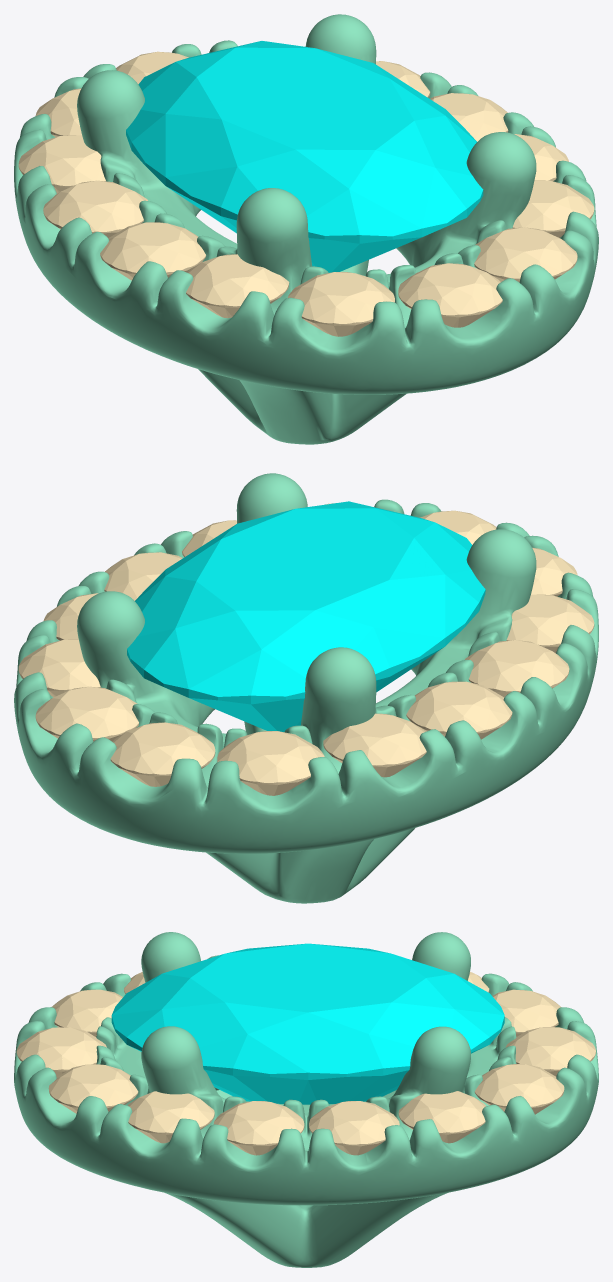
The picture shows the model from 3 angles, top to bottom: view 1: azimuth 30°, elevation 25°; view 2: azimuth 150°, elevation 25°; view 3: azimuth 270°, elevation 25°; orthographic projection. The views are drawn at different scales.
Parts seen in each view (by area): view 1: Metal01, Diamond_Oval, Diamond_Round, Diamond_Round.001, Diamond_Round.012, Diamond_Round.013, Diamond_Round.002, Diamond_Round.011, Diamond_Round.010, Diamond_Round.003, Diamond_Round.005, Diamond_Round.009 (+3 smaller); view 2: Metal01, Diamond_Oval, Diamond_Round.009, Diamond_Round.008, Diamond_Round.011, Diamond_Round.010, Diamond_Round.007, Diamond_Round.012, Diamond_Round.013, Diamond_Round.006, Diamond_Round.004, Diamond_Round (+3 smaller); view 3: Metal01, Diamond_Oval, Diamond_Round.005, Diamond_Round.004, Diamond_Round.007, Diamond_Round.006, Diamond_Round.002, Diamond_Round.003, Diamond_Round.001, Diamond_Round.008, Diamond_Round, Diamond_Round.009.
Part boxes in pixels (x1,y1,x2,y2): Metal01: (14,14,598,444); Diamond_Oval: (126,41,483,272); Diamond_Round: (287,272,394,336); Diamond_Round.001: (398,263,502,327); Diamond_Round.012: (100,222,206,280); Diamond_Round.013: (186,254,289,318); Diamond_Round.002: (474,227,577,282); Diamond_Round.011: (43,180,147,237); Diamond_Round.010: (18,135,105,193); Diamond_Round.003: (512,180,594,237); Diamond_Round.005: (430,93,508,141); Diamond_Round.009: (35,88,81,137); Metal01: (14,473,598,903); Diamond_Oval: (127,501,485,731); Diamond_Round.009: (217,731,324,795); Diamond_Round.008: (110,722,215,786); Diamond_Round.011: (406,681,512,739); Diamond_Round.010: (323,713,426,777); Diamond_Round.007: (35,686,138,741); Diamond_Round.012: (465,640,569,697); Diamond_Round.013: (506,594,594,653); Diamond_Round.006: (18,639,100,697); Diamond_Round.004: (104,552,182,600); Diamond_Round: (531,547,577,596); Metal01: (14,932,598,1267); Diamond_Oval: (111,943,504,1104); Diamond_Round.005: (309,1101,399,1155); Diamond_Round.004: (213,1101,304,1155); Diamond_Round.007: (474,1064,564,1114); Diamond_Round.006: (398,1091,485,1143); Diamond_Round.002: (48,1064,138,1113); Diamond_Round.003: (127,1091,214,1143); Diamond_Round.001: (16,1027,106,1076); Diamond_Round.008: (505,1027,595,1076); Diamond_Round: (51,989,122,1036); Diamond_Round.009: (492,989,561,1036).
Size of the model in its own units: 7.57 by 5.03 by 9.67.
